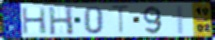0: (82, 6, 105, 35)
9: (142, 5, 164, 35)
H: (47, 4, 76, 36), (20, 6, 48, 35)
I: (175, 4, 186, 35)
T: (110, 4, 132, 36)
